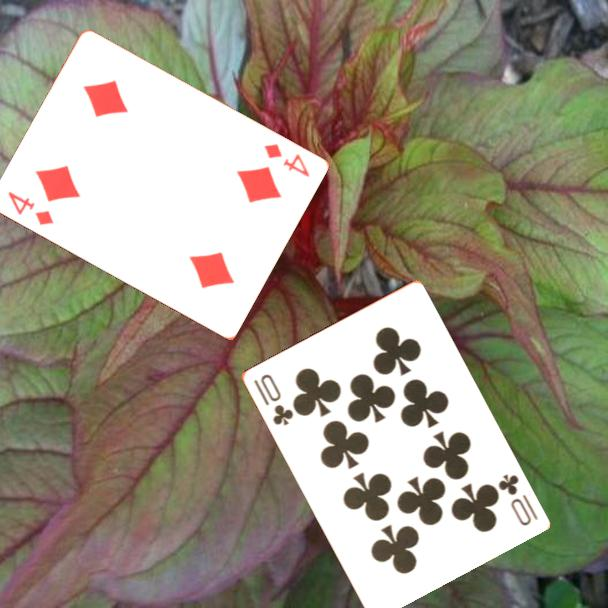c10: (494, 470, 541, 529), (249, 370, 296, 428)
d04: (4, 188, 56, 228), (260, 140, 312, 180)
